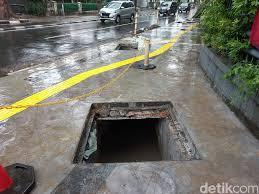Pothole: (61, 86, 221, 177), (112, 40, 141, 57)
